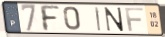0: (62, 6, 83, 32)
7: (19, 3, 38, 33)
F: (38, 4, 62, 33), (124, 7, 145, 33)
I: (94, 6, 102, 33)
N: (104, 6, 125, 33)
